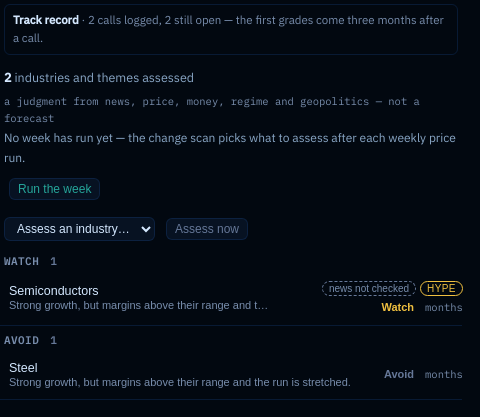
Scenario: AssessmentView › a trader sees no Assess now; an admin runs one and sees its cost
Select "Semiconductors" in the dropdown named "Industry to assess" at (80, 229), box top-left (4, 217), bottom-right (155, 241)
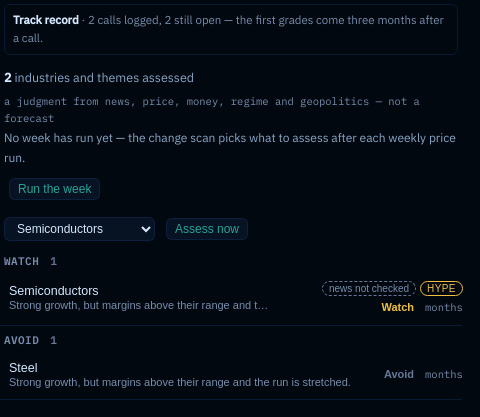
Click the button "Assess now".
click(207, 229)  # box top-left (166, 218), bottom-right (248, 240)
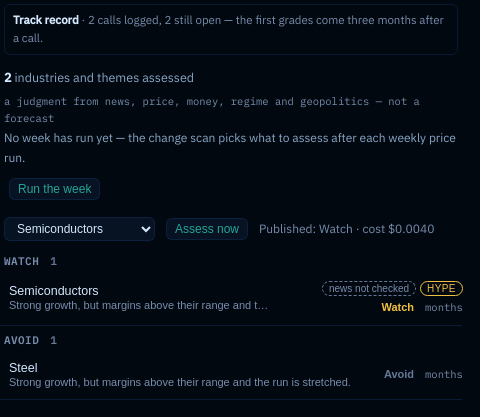
Check: the text "Published: Watch · cost $0.0040" is shown, box top-left (259, 219), bottom-right (434, 238)
